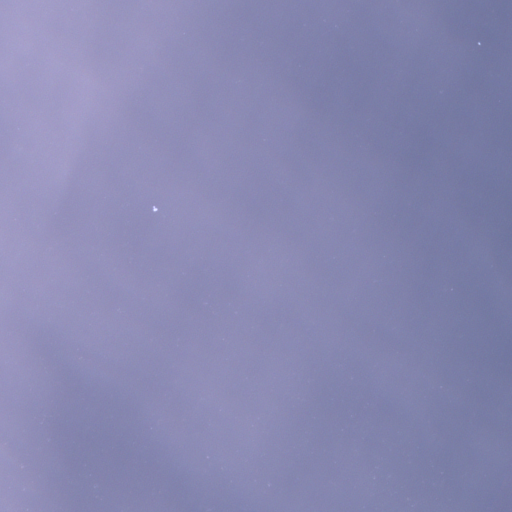Iceberg: (153, 206, 157, 211), (478, 42, 480, 44)
